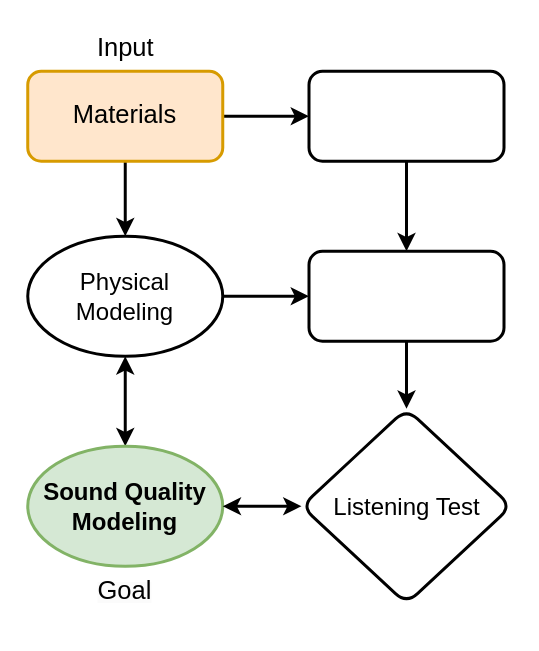
Image size: 539x651. Some labels were removed from this diagram. The box of each missing label's shape, as (x1, y1, x2, y2) in pixels:
Acoustic Characterization: (307, 69, 505, 162)
Sound Synthesis: (307, 249, 505, 342)
